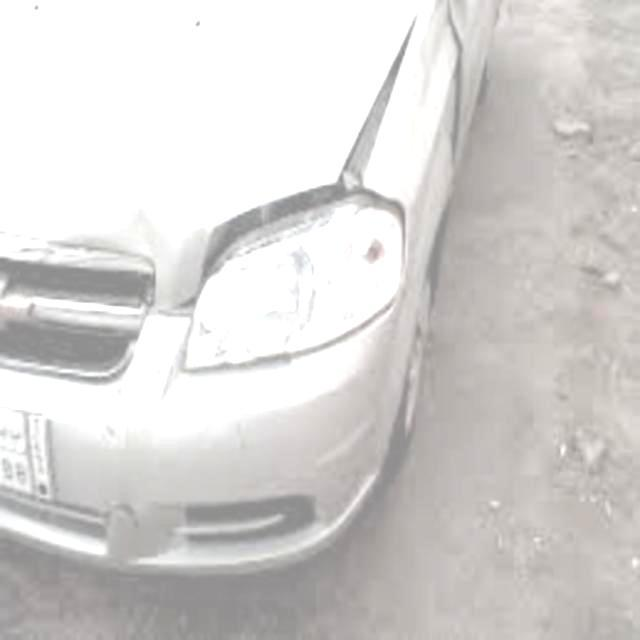minor: (0, 135, 347, 421), (177, 392, 218, 418)
